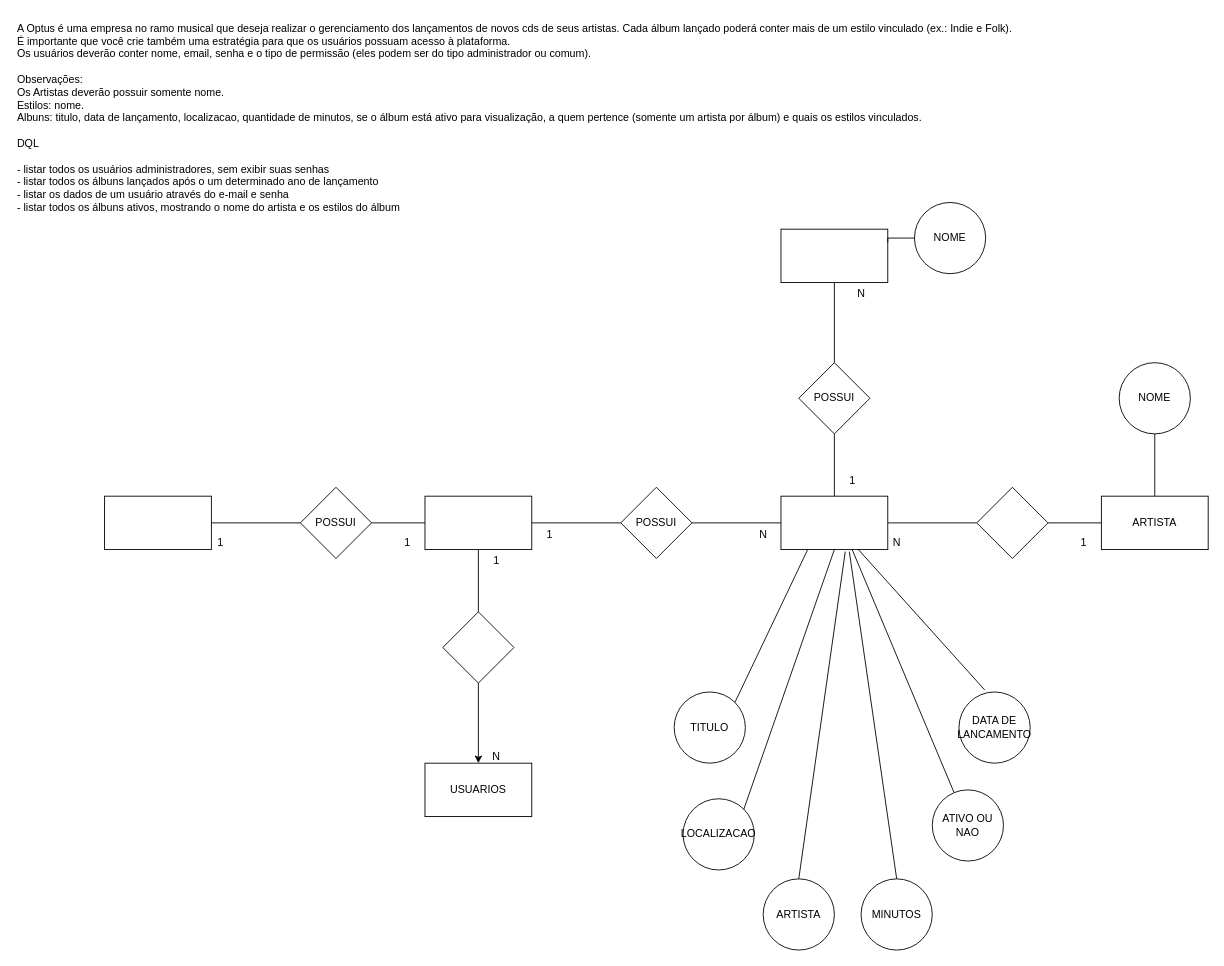
Image size: 1224x966. Some labels were removed from this diagram. Each missing label, with the centre of its shape:
"ACESSAM" goes at (x=478, y=647).
"ALBUM" goes at (x=834, y=522).
"EMPRESA" goes at (x=157, y=522).
"ESTILO" goes at (x=834, y=255).
"LANCA" goes at (x=1012, y=522).
"PLATAFORMA" goes at (x=478, y=522).
